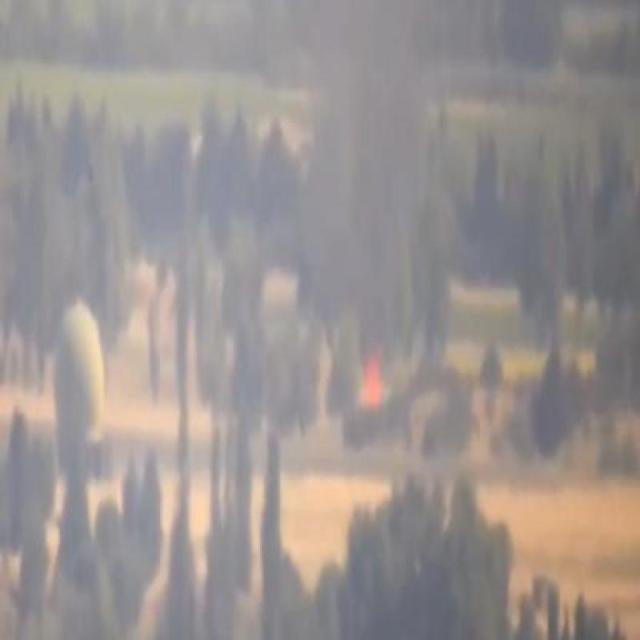Fire: (352, 351, 396, 419)
Smoke: (342, 109, 406, 337)
